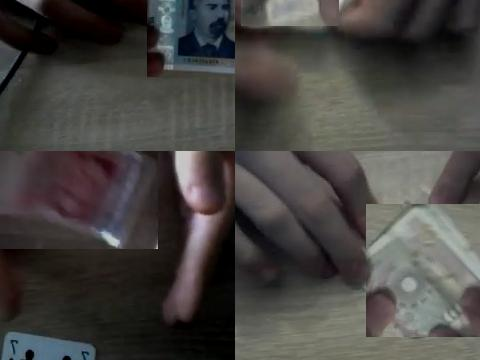10leva: (366, 204, 480, 337), (241, 0, 317, 26)
